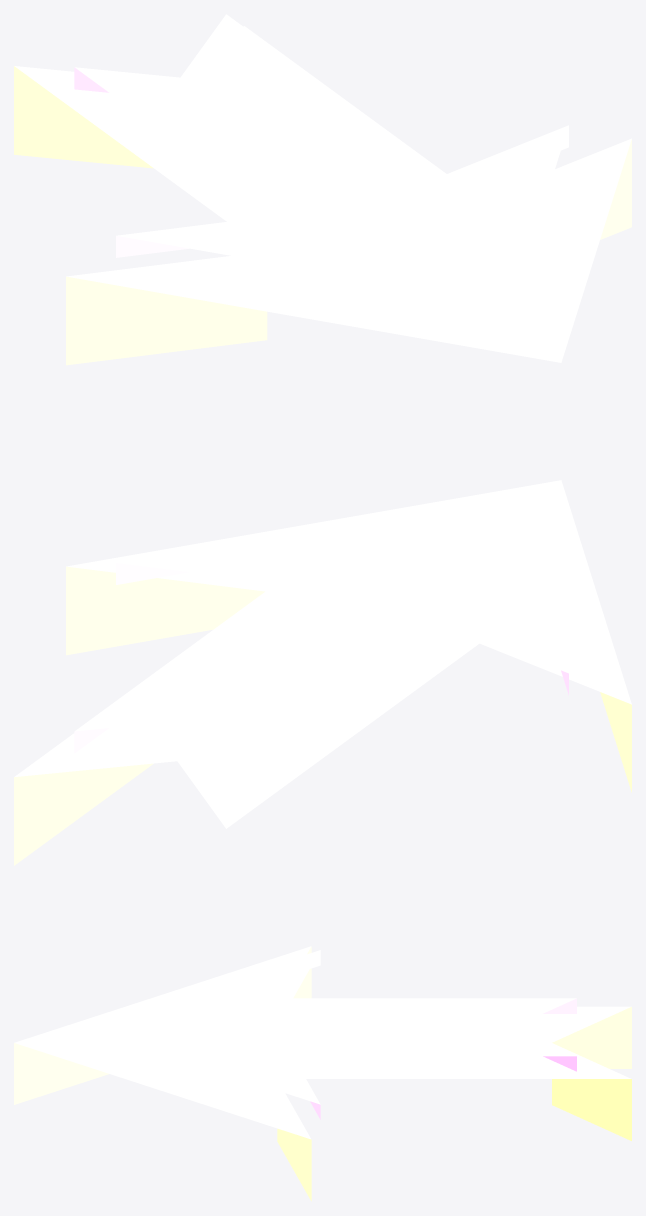
File: citadel_fx_guide.glb
3 views of the same model, one above another, from view 1: azimuth 30°, elevation 25°; view 2: azimuth 150°, elevation 25°; view 3: azimuth 270°, elevation 25° (orthographic). The views are drawn at different scales.
Visible parts, largest first — view 1: guide_arrow; view 2: guide_arrow; view 3: guide_arrow.
Boxes of the visible parts, box(x1,y1,x2,y2) form: guide_arrow: box(14, 14, 631, 365); guide_arrow: box(14, 480, 631, 865); guide_arrow: box(14, 946, 631, 1201).
Size of the model in its own units: 0.4 by 0.075 by 0.54.
